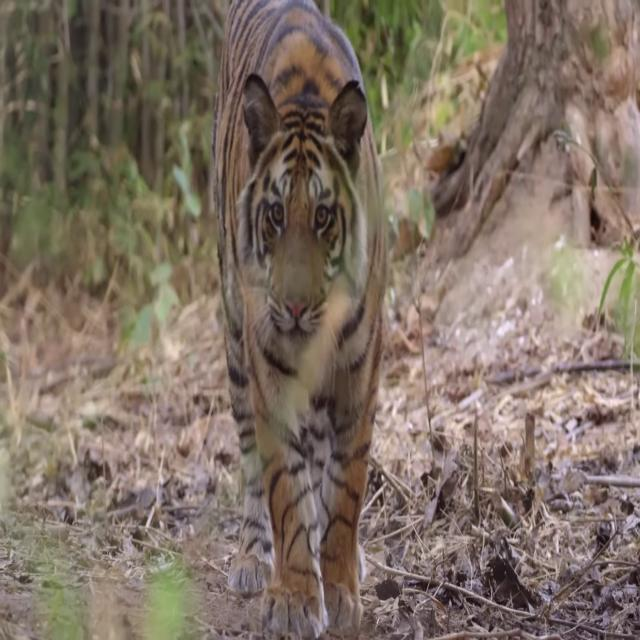tiger: (210, 0, 388, 640)
